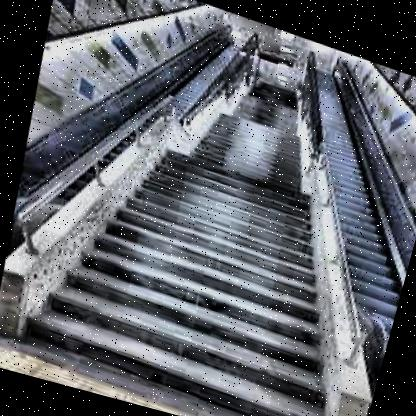stair: (40, 127, 364, 416)
